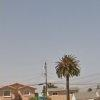Tree: (46, 48, 83, 87)
